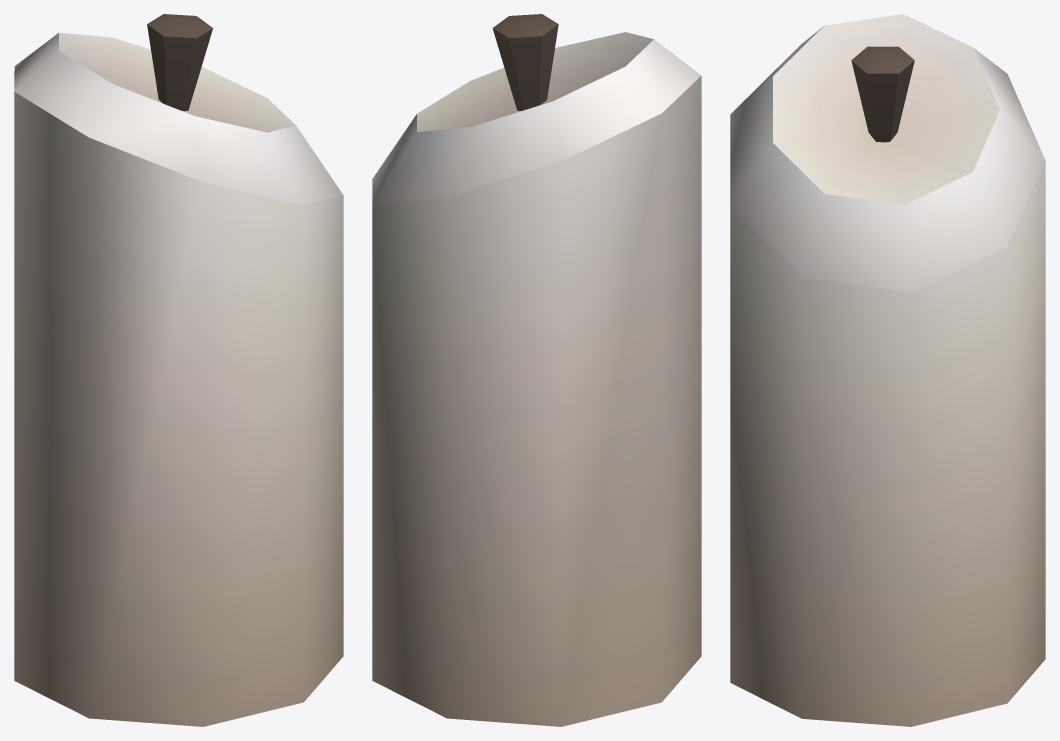
Rendered from kay-vela-gasta.gltf.
3 renders of one model, left to right at view 1: azimuth 30°, elevation 25°; view 2: azimuth 150°, elevation 25°; view 3: azimuth 270°, elevation 25°, orthographic. The views are drawn at different scales.
Parts seen in each view (by area): view 1: candle_melted; view 2: candle_melted; view 3: candle_melted.
Boxes of the visible parts, x1,y1,x2,y2 form: candle_melted: (14, 14, 343, 726); candle_melted: (372, 14, 701, 726); candle_melted: (730, 14, 1045, 726).
Size of the model in its own units: 0.2173 by 0.456 by 0.214.
1 material, 1 textured.
